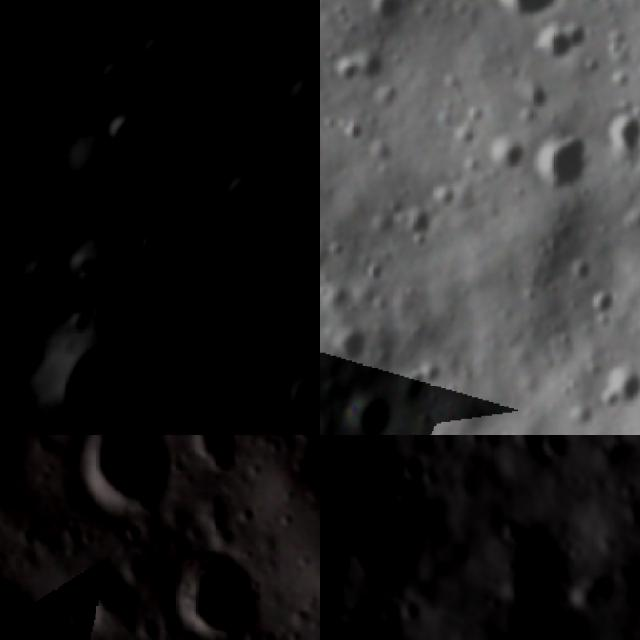crater: (18, 328, 161, 435), (165, 537, 263, 640), (66, 435, 178, 512), (52, 140, 147, 217), (527, 126, 603, 199), (70, 236, 138, 311), (82, 554, 144, 624), (271, 350, 320, 435), (322, 42, 393, 94), (0, 561, 42, 640), (596, 356, 640, 418), (187, 435, 244, 480), (368, 586, 418, 636), (478, 128, 526, 180), (336, 389, 390, 435), (604, 99, 640, 162), (224, 173, 272, 220), (54, 593, 102, 640), (324, 332, 375, 376), (96, 108, 147, 150), (488, 511, 533, 555), (493, 0, 561, 25), (171, 7, 211, 48), (362, 0, 411, 30), (175, 180, 210, 216), (230, 0, 270, 30), (102, 38, 134, 72), (100, 57, 129, 93), (437, 0, 497, 15), (204, 489, 235, 518), (78, 47, 105, 74), (192, 0, 224, 22), (291, 435, 320, 451)
